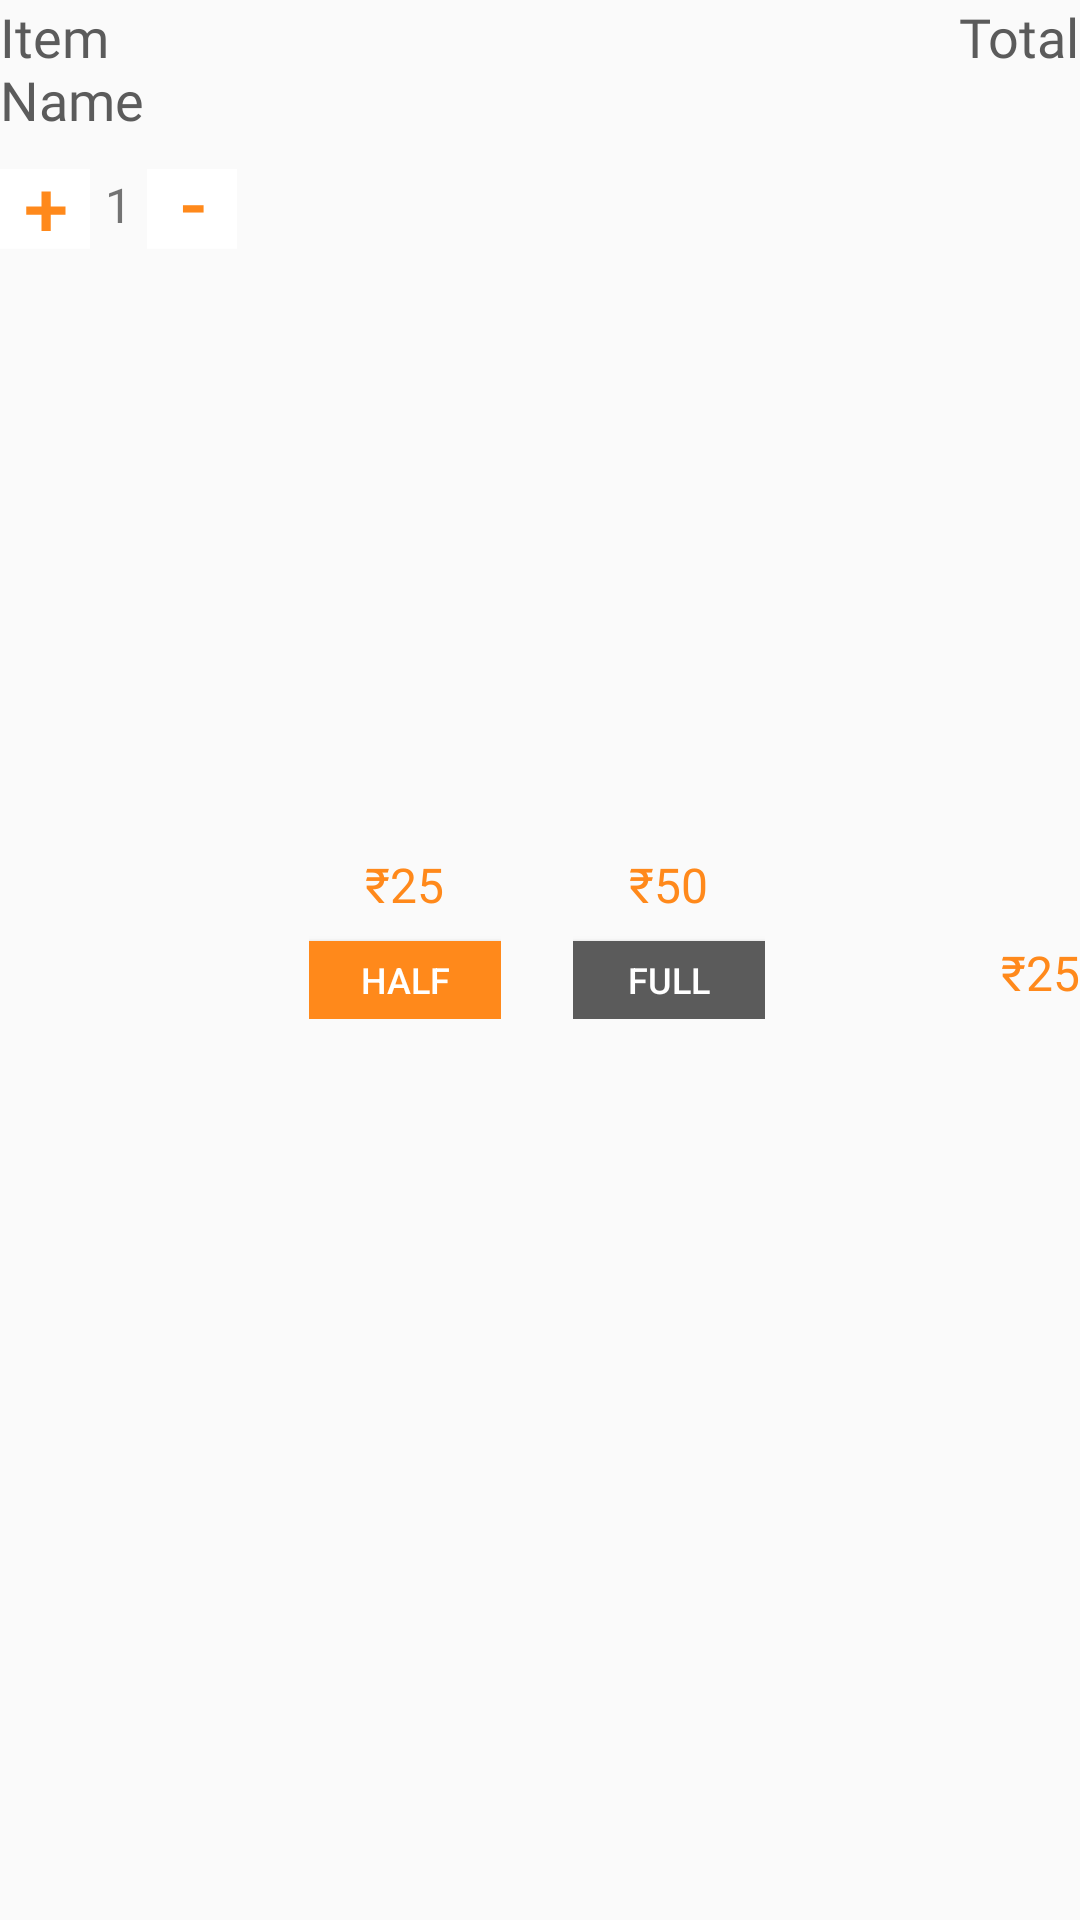

Point at icon controls on the screen. Image size 1080 × 1920, points as (x=x, y=y).
group 24plus: (x=46, y=211)
